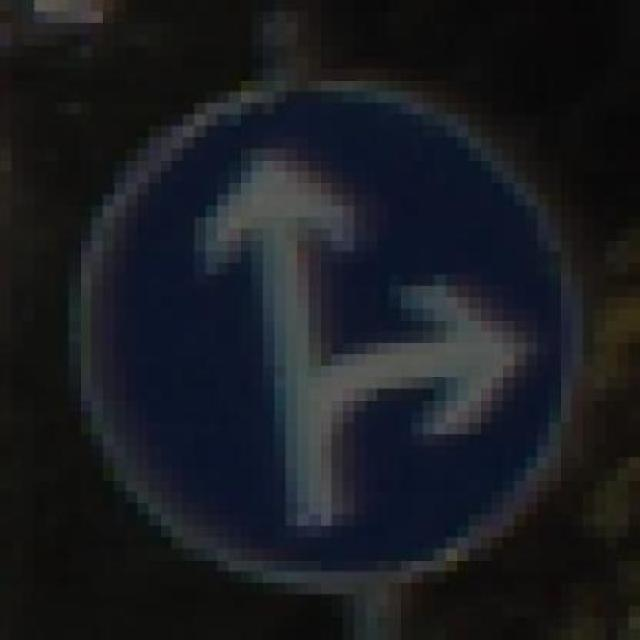Go Straight or Turn Right: (46, 45, 583, 606)
